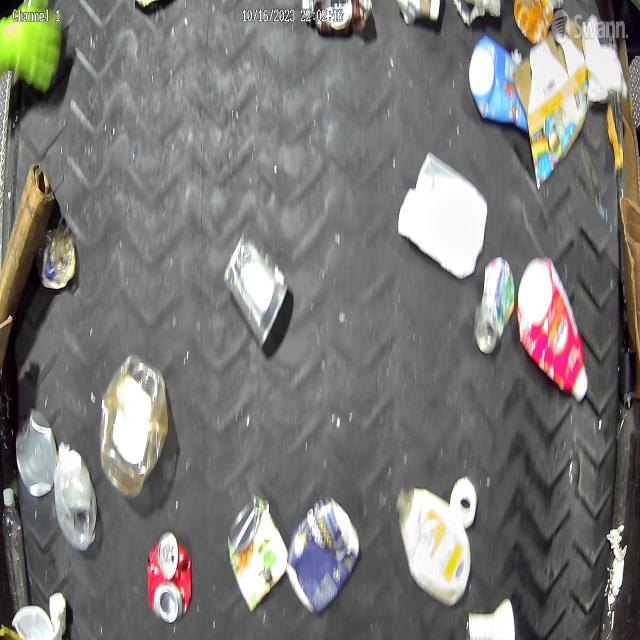can: (286, 491, 362, 616), (221, 224, 291, 350), (227, 493, 289, 615), (473, 256, 516, 356), (147, 529, 193, 622), (14, 408, 60, 496), (464, 592, 517, 640)
non_white_jug: (516, 255, 589, 407)
